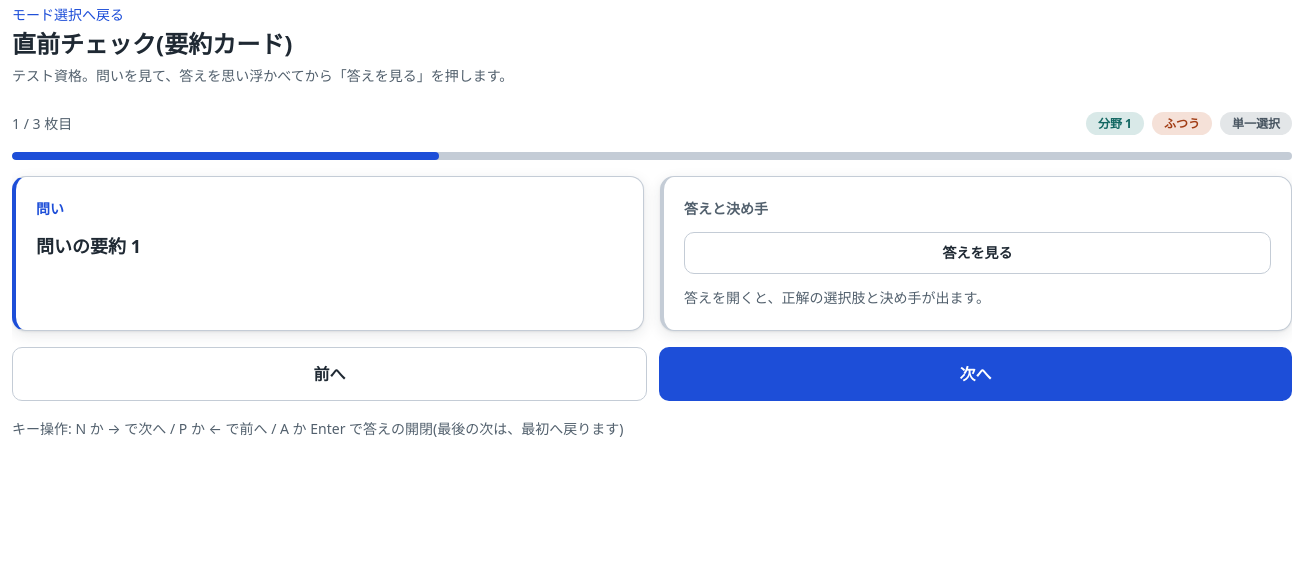
Test: SummaryCards › 次へ・前へ_カードを移り_答えは隠れた状態に戻る
Click the button "答えを見る": [978, 253] box [684,232,1271,274]
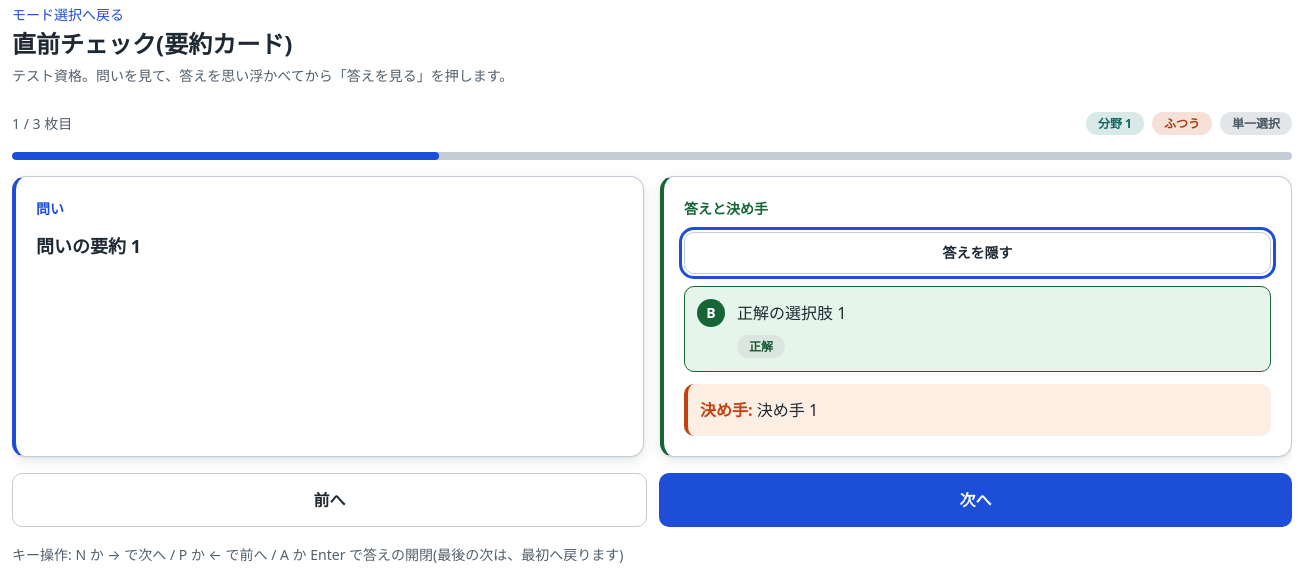
Click the button "次へ": [976, 500] box [659,473,1292,527]
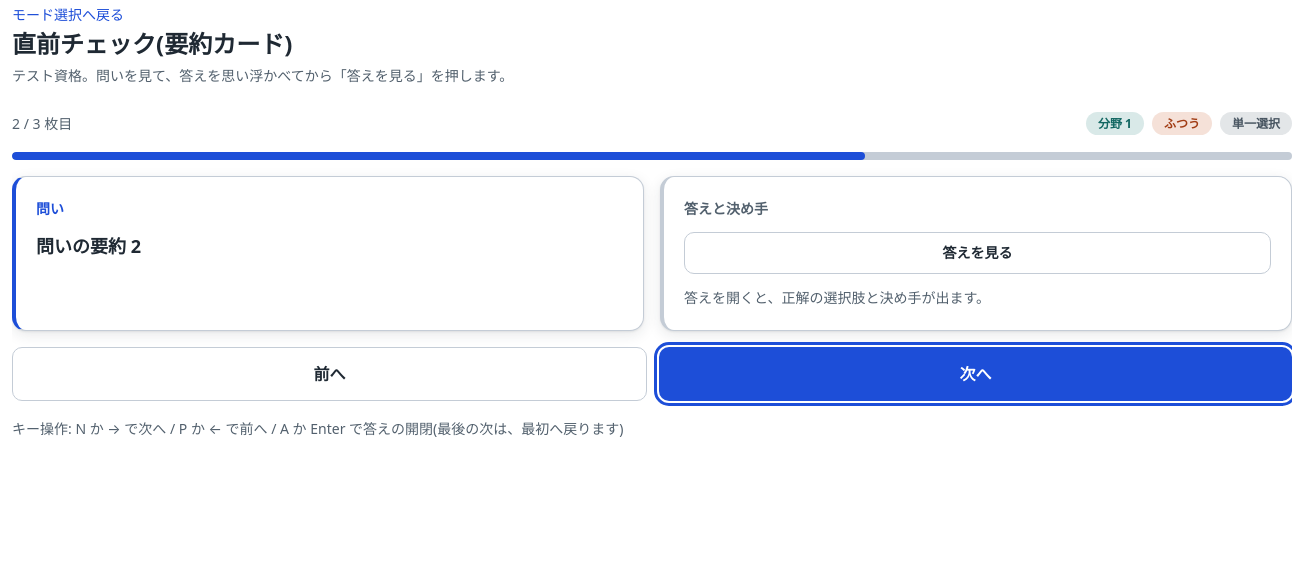
Check: the text "問いの要約 2" is shown, box [36,234,141,258]
Check: the text "2 / 3 枚目" is shown, box [12,112,72,136]
Check: the text "決め手 1" is gone
Click the button "前へ": [330, 374] box [12,347,647,401]
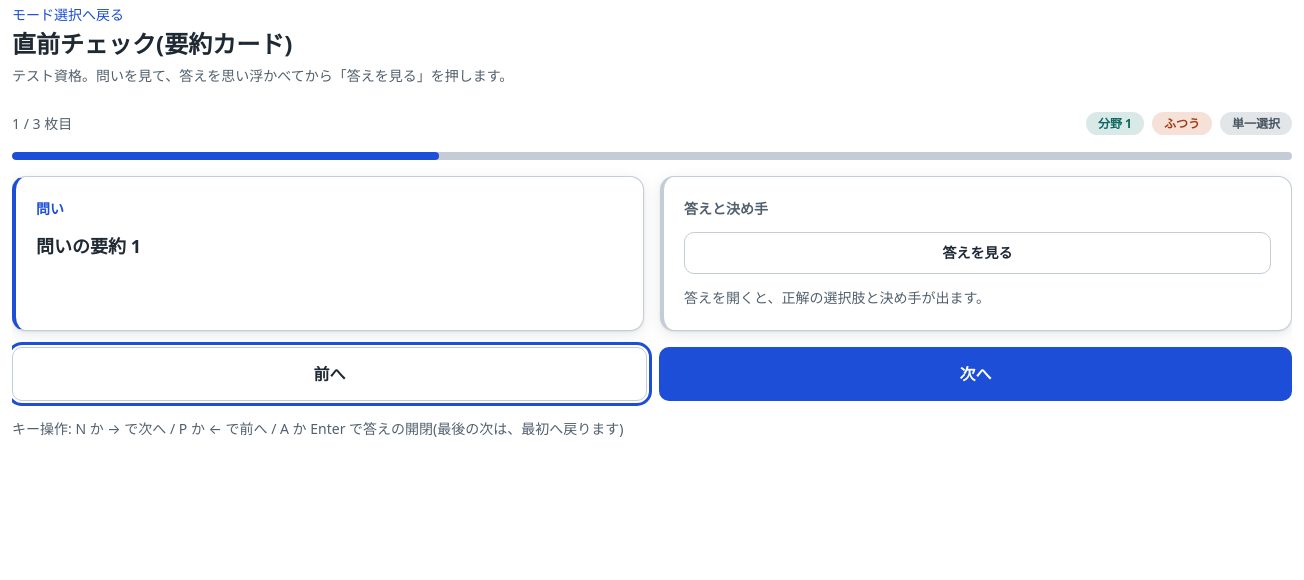
Check: the text "問いの要約 1" is shown, box [36,234,141,258]
